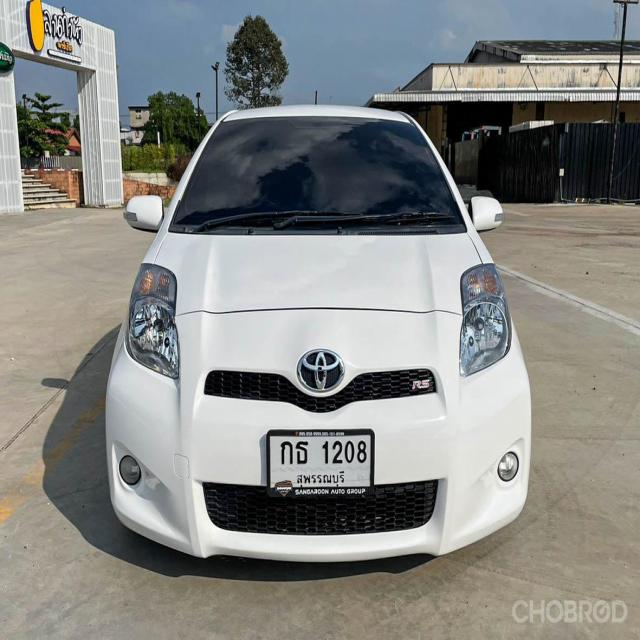car: (103, 102, 534, 565)
license_plate: (266, 429, 375, 498)
plate_number: (279, 439, 368, 466)
province: (295, 469, 346, 487)
